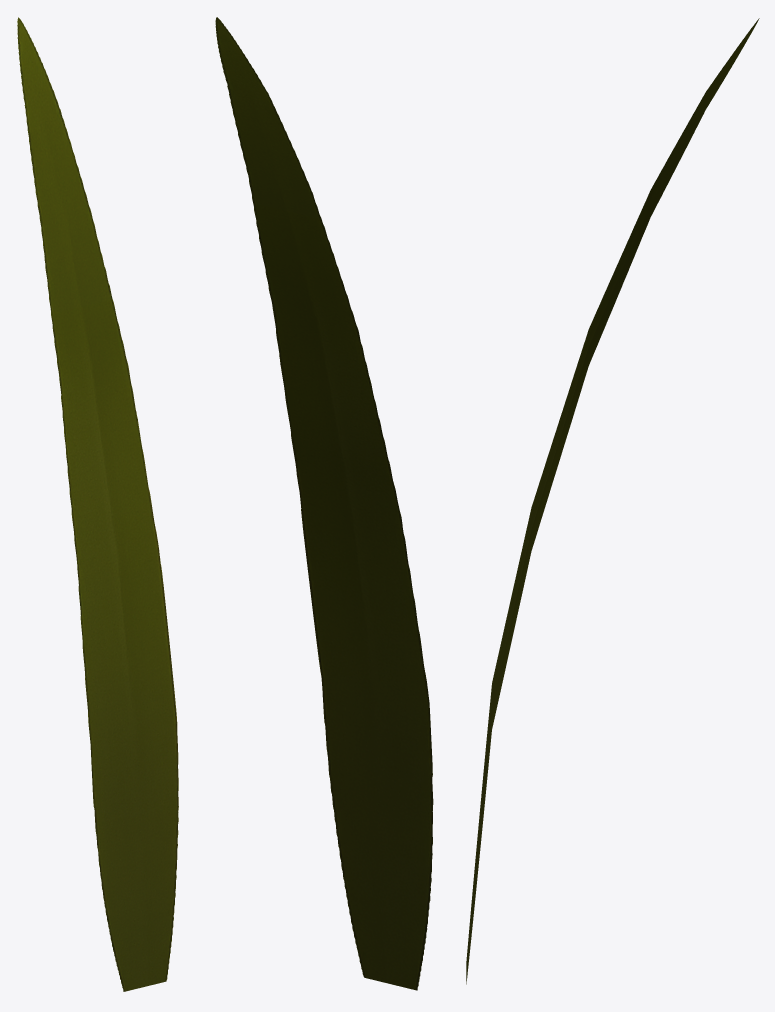
File: Foliage_Set_1_Tall_Grass.fbx
3 views of the same model, side by side, from view 1: azimuth 30°, elevation 25°; view 2: azimuth 150°, elevation 25°; view 3: azimuth 270°, elevation 25° (orthographic). The views are drawn at different scales.
Parts seen in each view (by area): view 1: Foliage_Set_1_Tall_Grass; view 2: Foliage_Set_1_Tall_Grass; view 3: Foliage_Set_1_Tall_Grass.
Part boxes in pixels (x1,y1,x2,y2): Foliage_Set_1_Tall_Grass: [17, 17, 178, 991]; Foliage_Set_1_Tall_Grass: [215, 17, 433, 990]; Foliage_Set_1_Tall_Grass: [466, 18, 759, 984].
Size of the model in its own units: 19.37 by 178 by 49.22.
